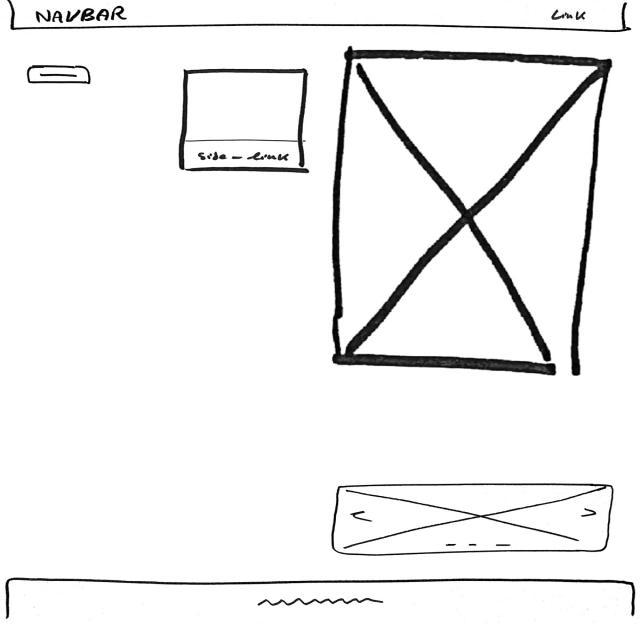container: (5, 0, 631, 31), (176, 66, 306, 172)
icon-button: (23, 63, 92, 85)
image: (333, 48, 607, 376), (327, 482, 614, 556)
label: (29, 4, 128, 23), (196, 150, 292, 162), (548, 9, 591, 22)
text: (252, 596, 384, 608)
